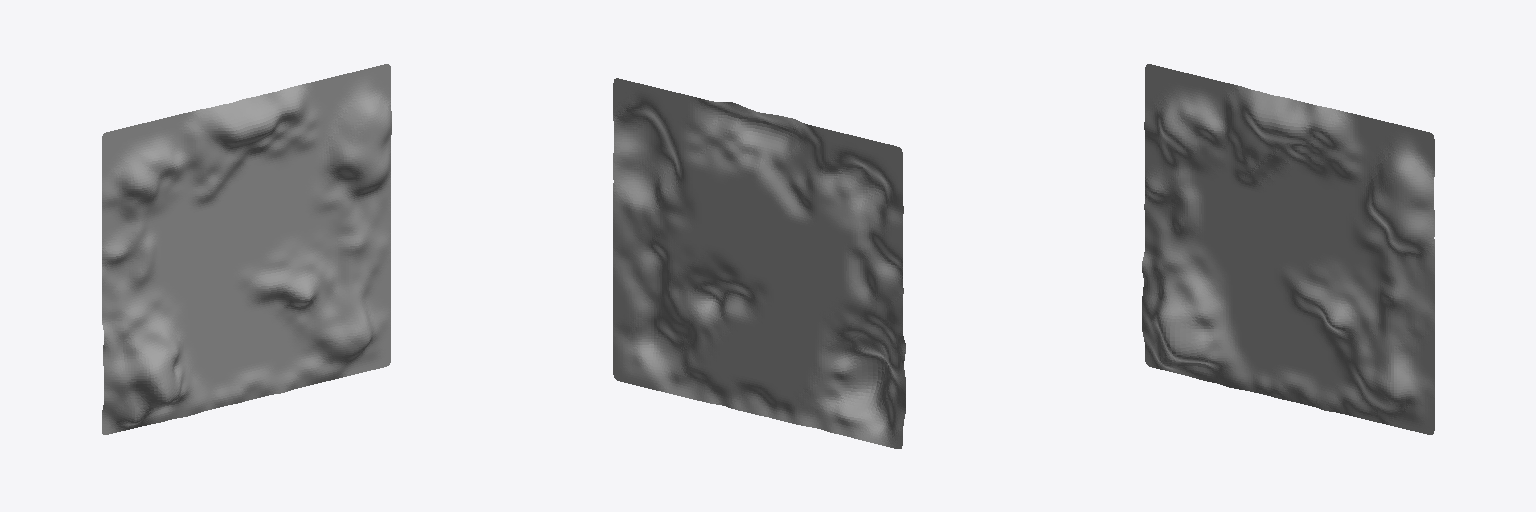
File: terrain.OBJ
The picture shows the model from 3 angles: view 1: azimuth 30°, elevation 25°; view 2: azimuth 150°, elevation 25°; view 3: azimuth 330°, elevation 25°; orthographic projection.
Visible parts, largest first — view 1: /ambf/env/terrain_terrain_Plane; view 2: /ambf/env/terrain_terrain_Plane; view 3: /ambf/env/terrain_terrain_Plane.
Part boxes in pixels (x1,y1,x2,y2): /ambf/env/terrain_terrain_Plane: (102,64,391,434); /ambf/env/terrain_terrain_Plane: (613,78,905,448); /ambf/env/terrain_terrain_Plane: (1142,64,1434,434).
Size of the model in its own units: 67.05 by 67.27 by 7.82.